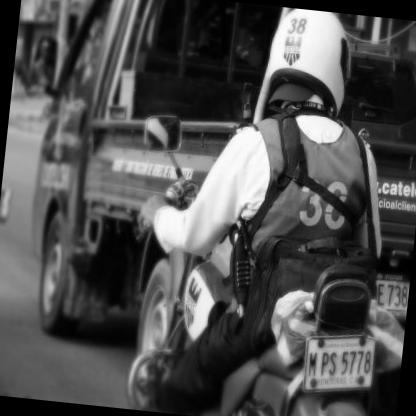car: (6, 1, 416, 375)
